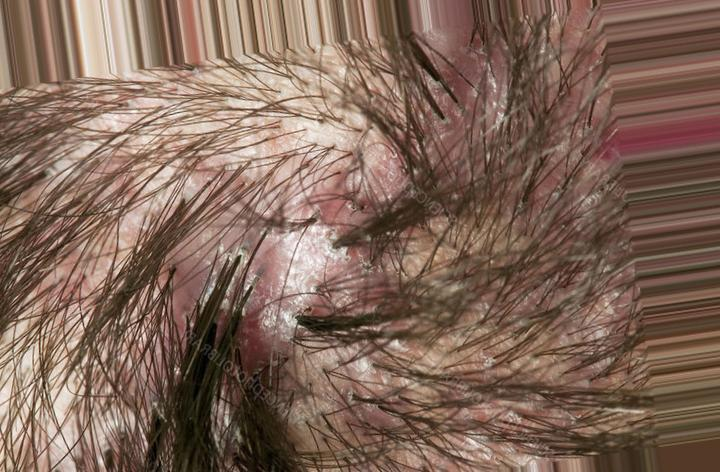Folliculitis: (275, 121, 393, 273), (203, 281, 353, 374)
